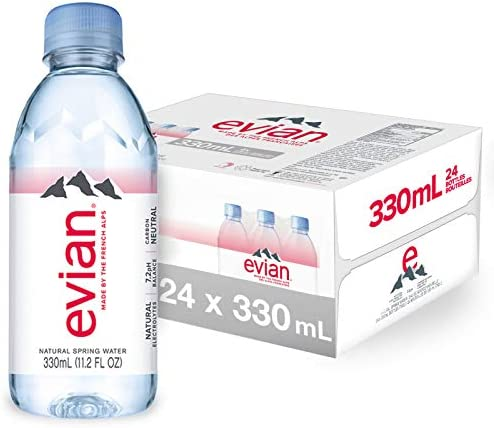PlasticBottle: (7, 6, 165, 415)
